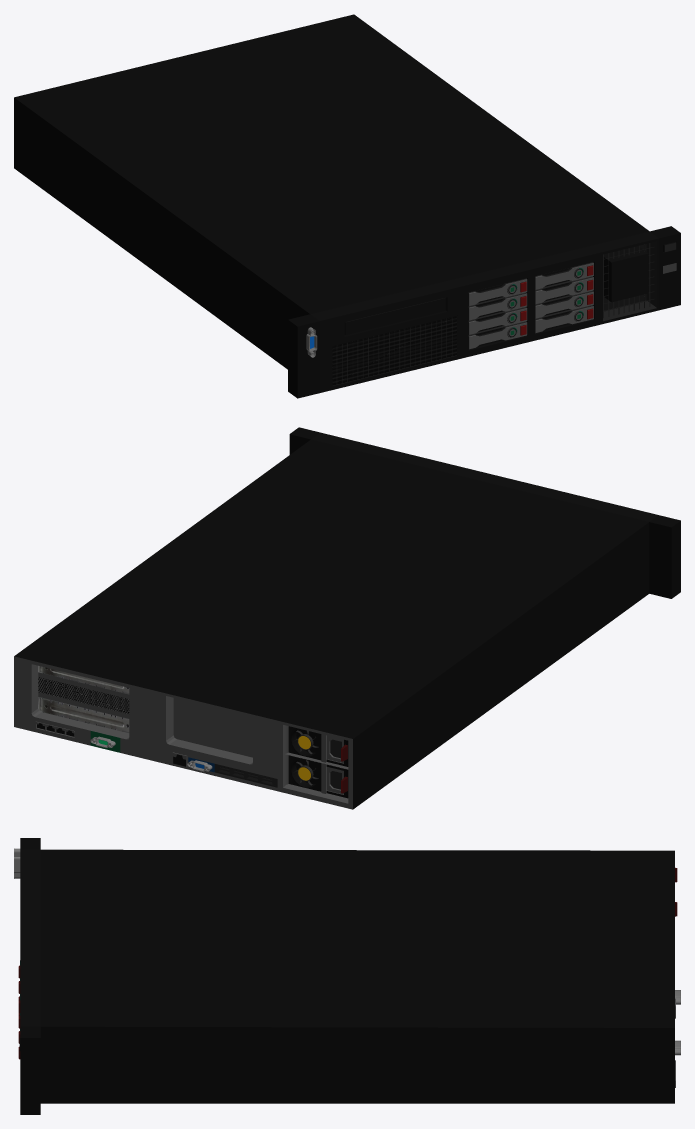
3 renders of one model, top to bottom at view 1: azimuth 30°, elevation 25°; view 2: azimuth 150°, elevation 25°; view 3: azimuth 270°, elevation 25°, orthographic. The views are drawn at different scales.
Parts seen in each view (by area): view 1: HPE_DL380_G8; view 2: HPE_DL380_G8; view 3: HPE_DL380_G8.
Boxes of the visible parts, x1=… form: HPE_DL380_G8: x1=14, y1=14, x2=680, y2=398; HPE_DL380_G8: x1=14, y1=427, x2=680, y2=809; HPE_DL380_G8: x1=14, y1=838, x2=680, y2=1114.
Size of the model in its own units: 488 by 87.57 by 688.
27 materials, 4 textured.
